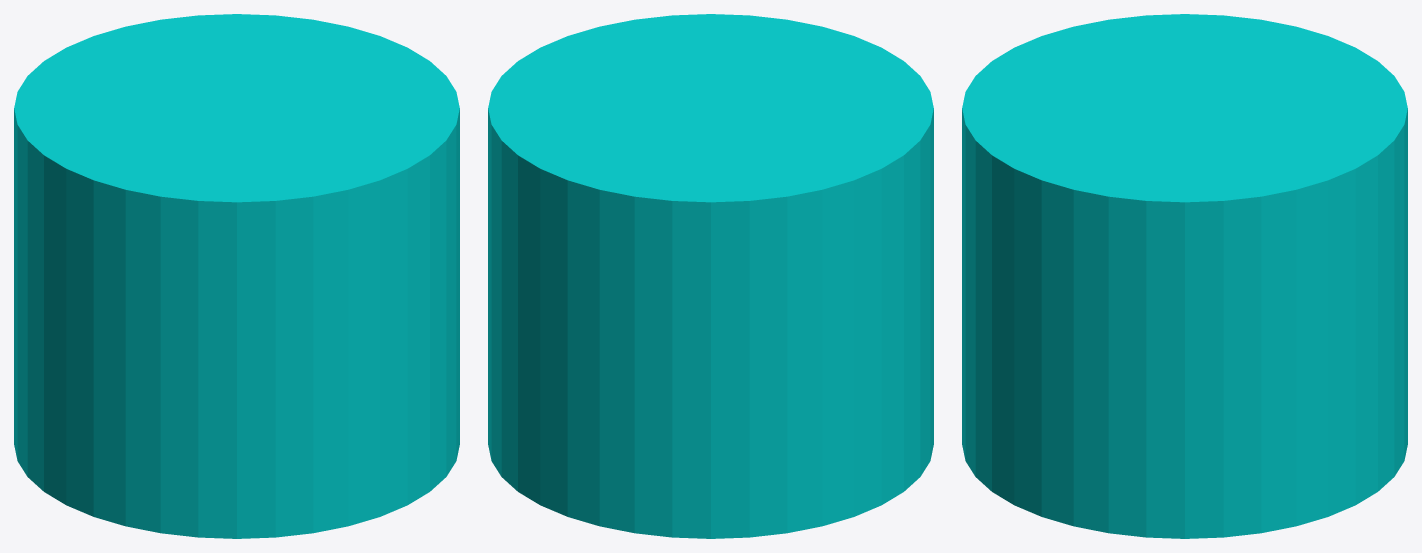
File: pipes.glb
3 views of the same model, side by side, from view 1: azimuth 30°, elevation 25°; view 2: azimuth 150°, elevation 25°; view 3: azimuth 270°, elevation 25° (orthographic).
Bounding box in the file's own units: 12 × 10 × 12.
